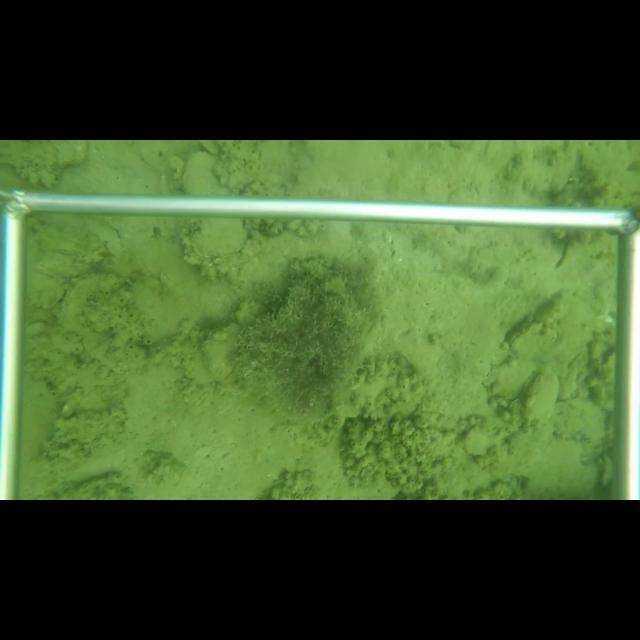Oyster-Closed: (58, 272, 127, 328), (200, 322, 252, 382), (189, 219, 251, 260), (178, 152, 232, 196), (505, 320, 562, 361)
Oyster-Open: (517, 373, 560, 429), (229, 298, 277, 327), (600, 347, 615, 369)
